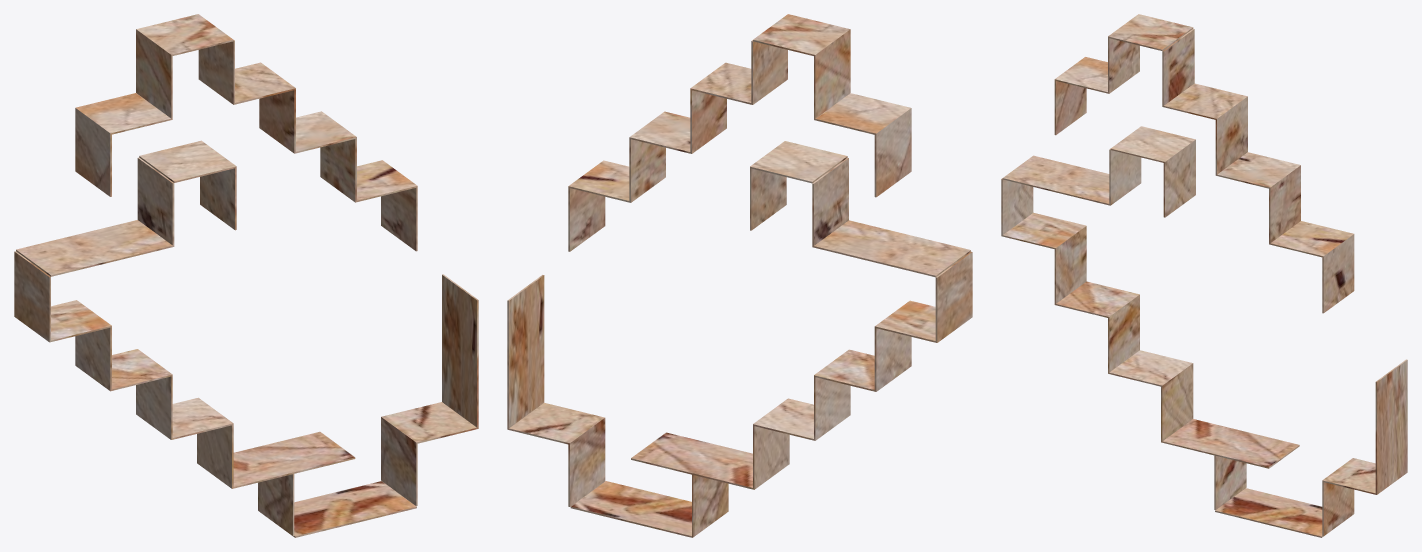
The model's file is 2022RoboCup_wall.dae.
3 views of the same model, side by side, from view 1: azimuth 30°, elevation 25°; view 2: azimuth 150°, elevation 25°; view 3: azimuth 330°, elevation 25° (orthographic). The views are drawn at different scales.
Visible parts, largest first — view 1: 2022RoboCup_wall; view 2: 2022RoboCup_wall; view 3: 2022RoboCup_wall.
Boxes of the visible parts, x1,y1,x2,y2 form: 2022RoboCup_wall: (14, 14, 478, 537); 2022RoboCup_wall: (507, 14, 972, 537); 2022RoboCup_wall: (1001, 14, 1407, 537).
Bounding box in the file's own units: 846 × 122 × 966.
1 material, 1 textured.
